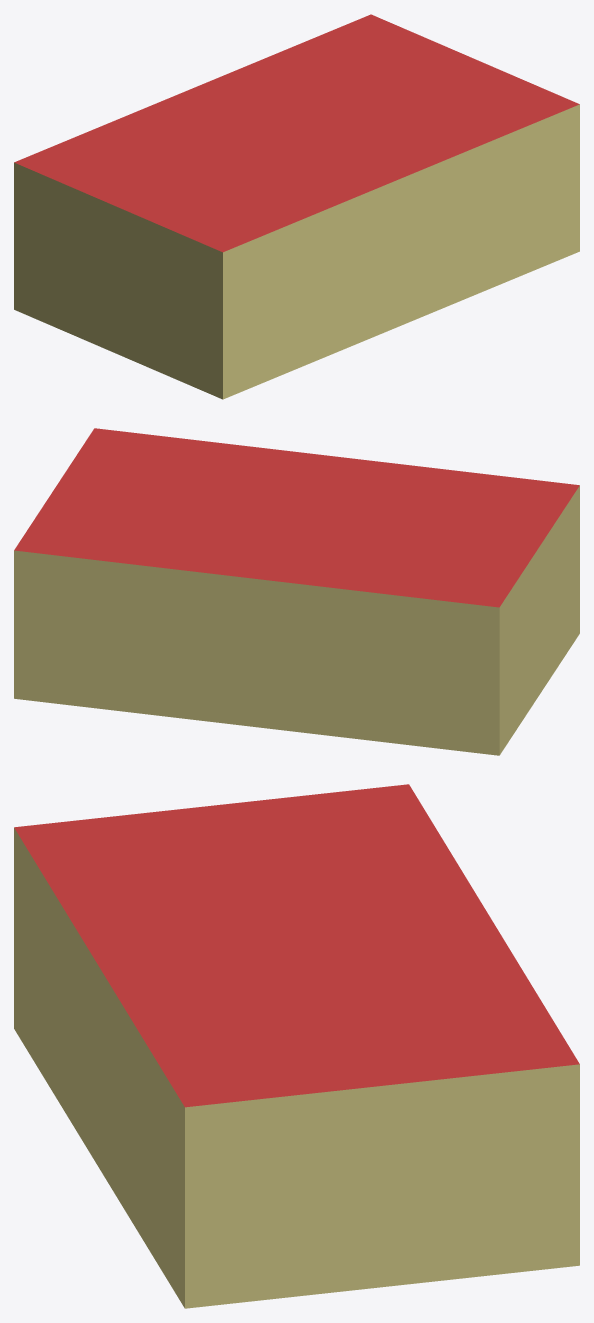
The picture shows the model from 3 angles, top to bottom: view 1: azimuth 30°, elevation 25°; view 2: azimuth 150°, elevation 25°; view 3: azimuth 270°, elevation 25°; orthographic projection. The views are drawn at different scales.
Size of the model in its own units: 25.28 by 18.72 by 7.35.
